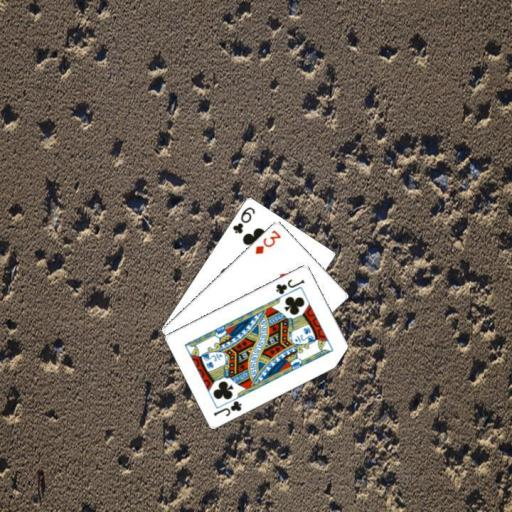3D: (252, 226, 282, 255)
6C: (229, 203, 257, 235)
JC: (272, 275, 306, 296), (211, 398, 243, 418)
